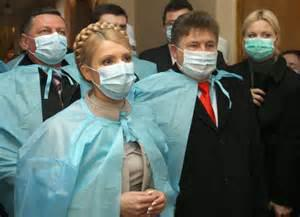OK: (88, 52, 135, 102), (27, 22, 69, 65), (180, 37, 219, 80), (245, 25, 279, 60)
